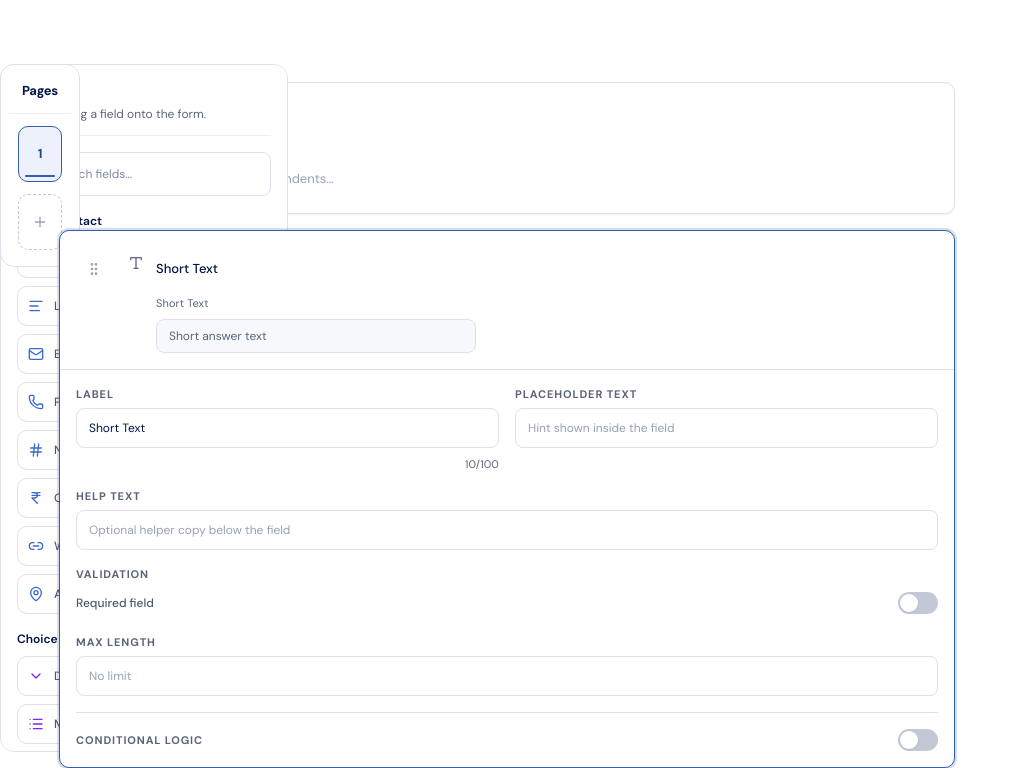
Scenario: BuildTabPanel › Add page appends a page, and switching pages shows that page's own fields only
The width and height of the screenshot is (1024, 768).
Click the button named "Add page": (40, 222) [18, 194, 62, 250]
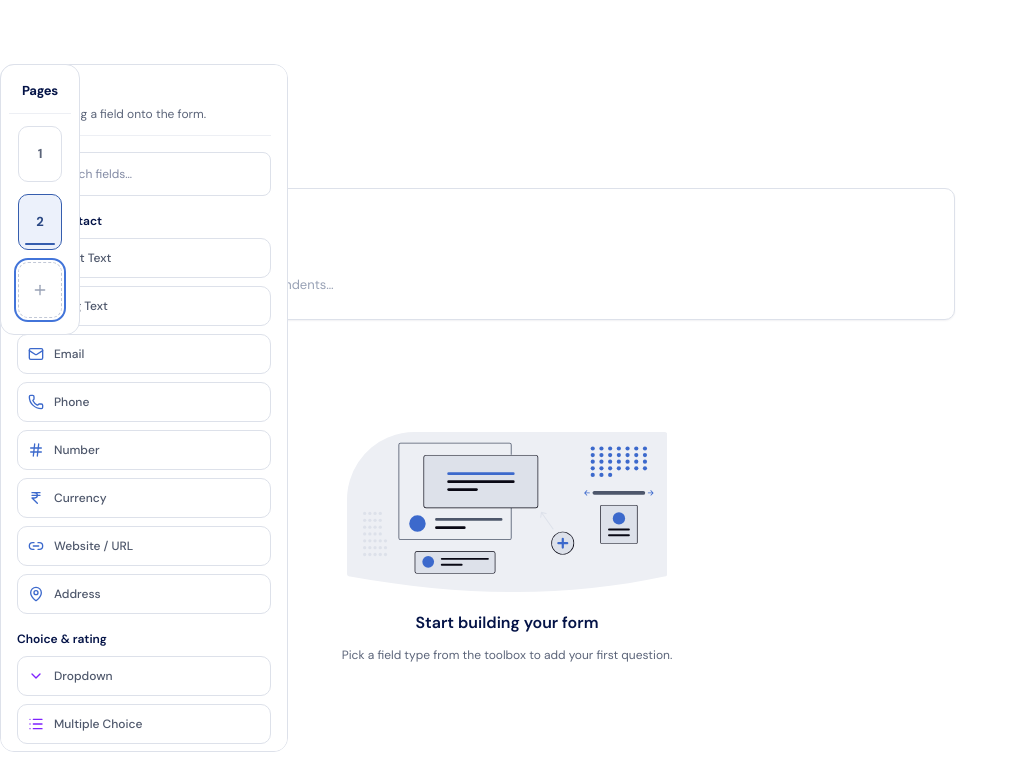
Now the heading "Start building your form" is shown, box [416, 612, 598, 634]
Click the button titled "First page — 1 field": (40, 154) [18, 126, 62, 182]
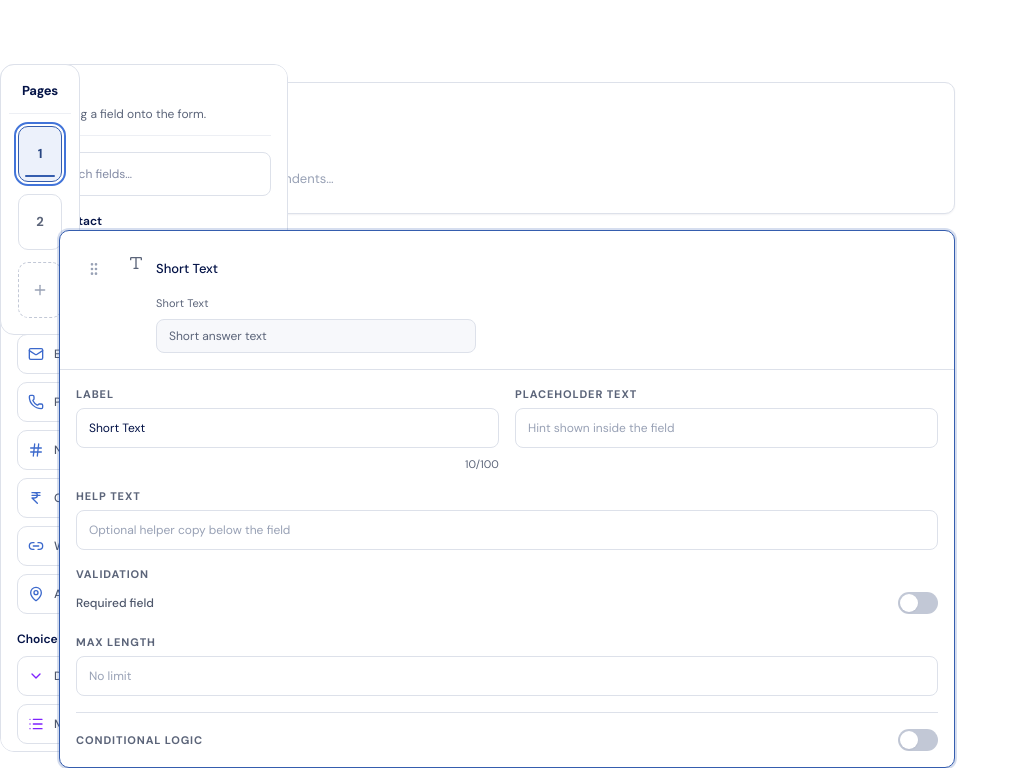
Now the button "Short Text Short Text Short answer text" is shown, box [86, 255, 476, 353]
